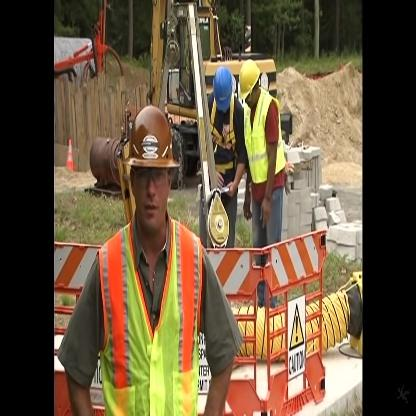helmet: (125, 96, 173, 249), (227, 54, 260, 119)
